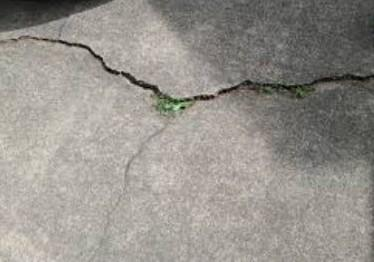crack: (3, 29, 369, 111), (92, 129, 161, 262)
